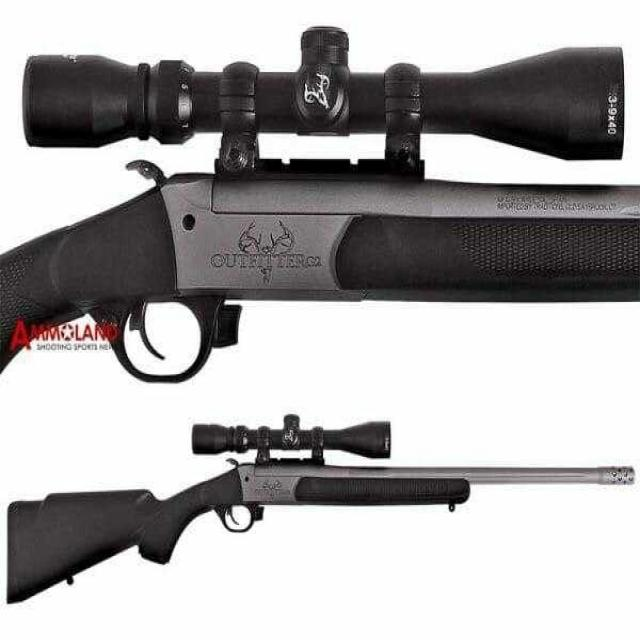heavyweapon: (1, 13, 640, 406), (2, 409, 638, 637)
